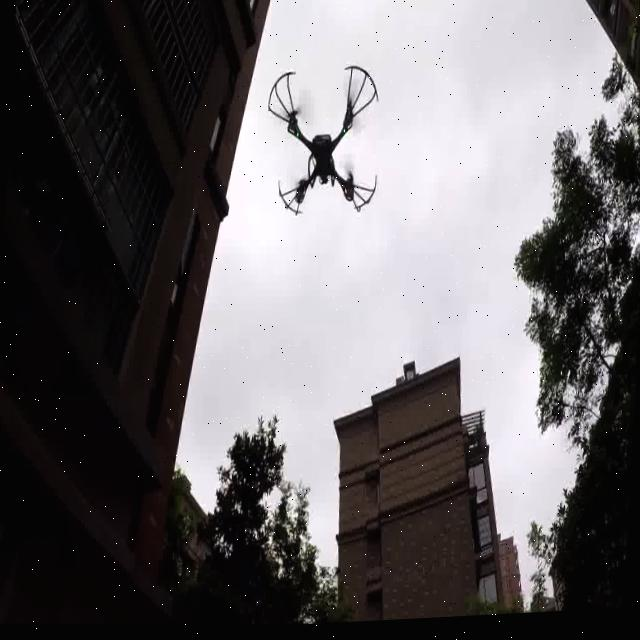drone: (266, 56, 382, 232)
